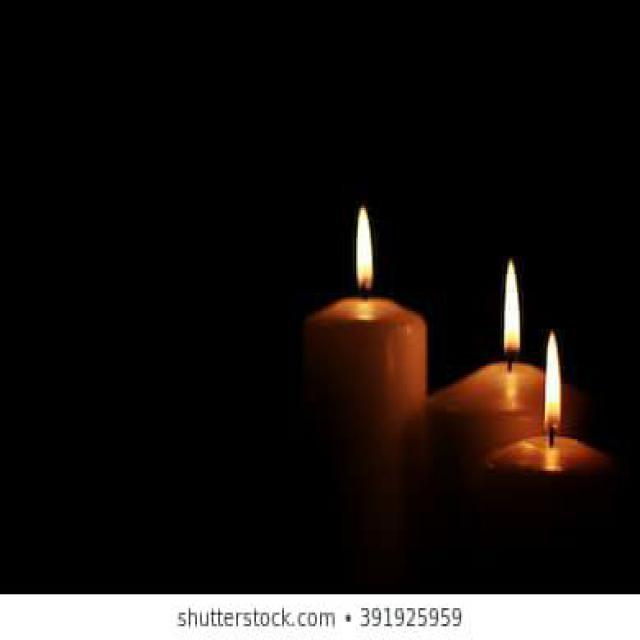Fire: (503, 260, 521, 362), (544, 333, 562, 433), (356, 207, 373, 294)
